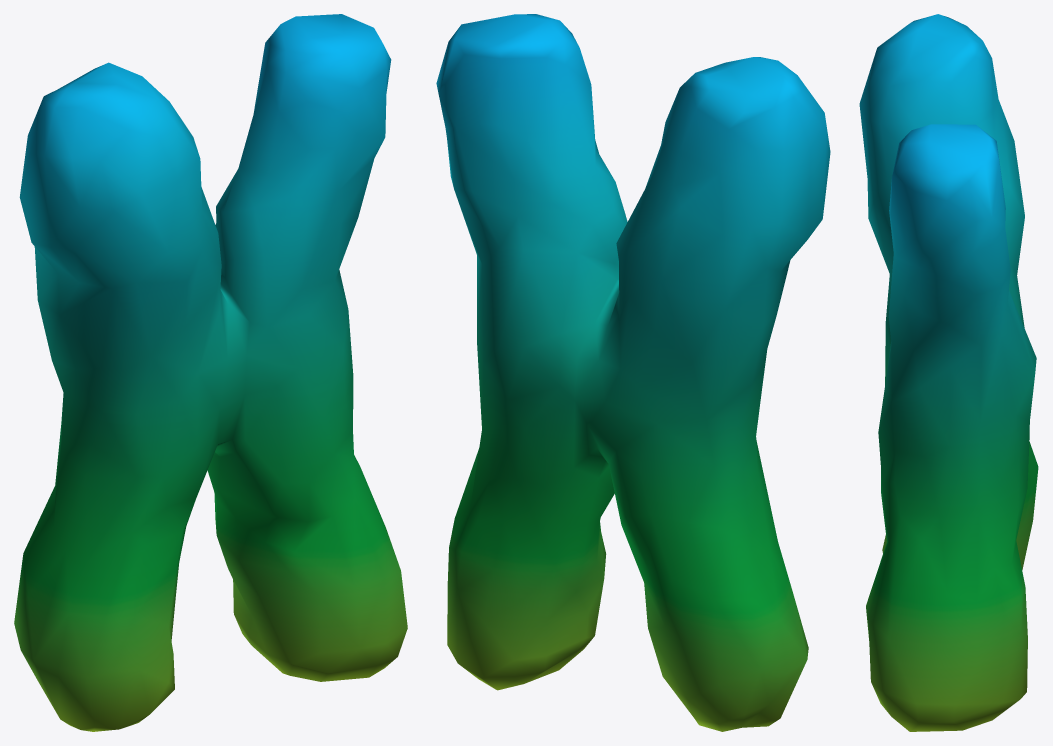
Rendered from Capsule_contents_007.fbx.
The picture shows the model from 3 angles, left to right: view 1: azimuth 30°, elevation 25°; view 2: azimuth 150°, elevation 25°; view 3: azimuth 270°, elevation 25°; orthographic projection. The views are drawn at different scales.
Parts seen in each view (by area): view 1: Сapsule_contents_007; view 2: Сapsule_contents_007; view 3: Сapsule_contents_007.
Part boxes in pixels (<box>): Сapsule_contents_007: <box>14,14,407,731</box>; Сapsule_contents_007: <box>436,14,830,731</box>; Сapsule_contents_007: <box>859,14,1038,731</box>.
Bounding box in the file's own units: 71.12 × 33.88 × 125.
